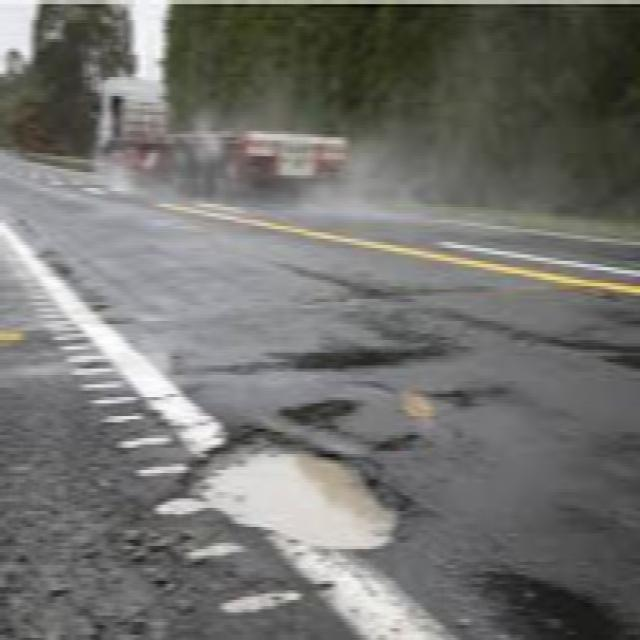Pothole: (150, 420, 418, 562), (452, 559, 618, 640), (270, 278, 513, 306), (509, 330, 640, 368), (276, 388, 366, 443), (270, 346, 446, 374), (399, 391, 469, 425), (368, 432, 432, 454)
